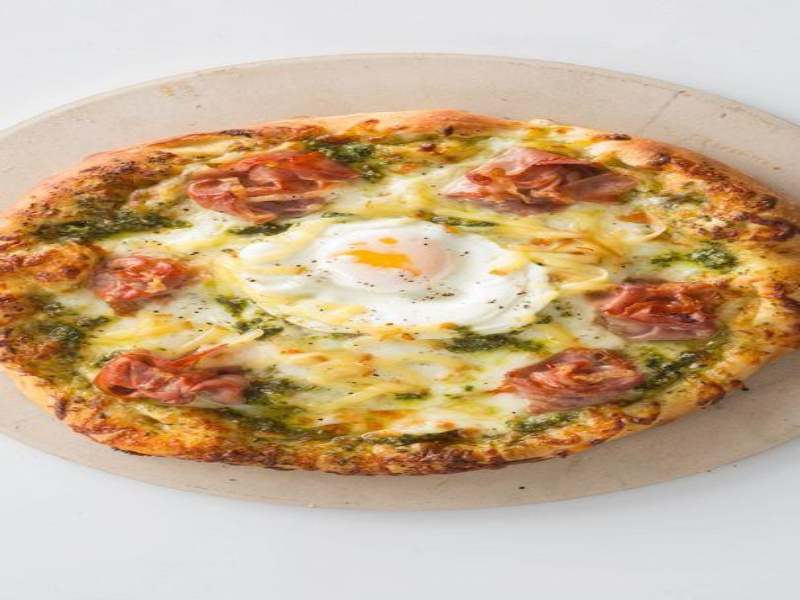oeuf: (295, 216, 481, 322)
